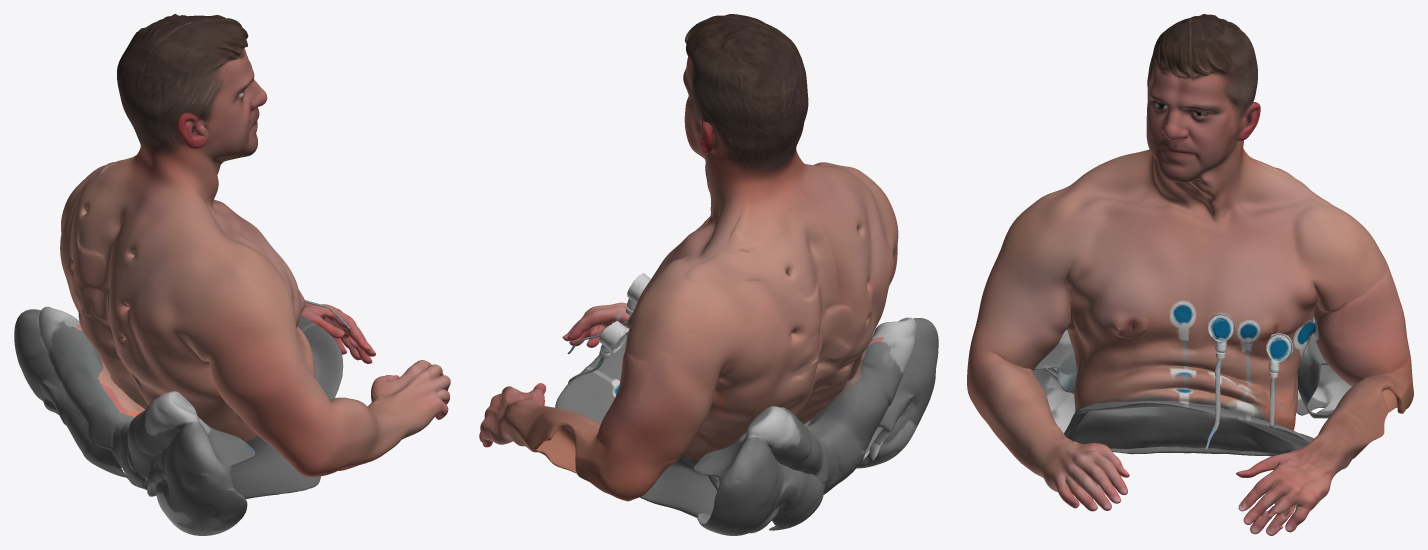
Rendered from ecg.glb.
3 views of the same model, side by side, from view 1: azimuth 30°, elevation 25°; view 2: azimuth 150°, elevation 25°; view 3: azimuth 270°, elevation 25° (orthographic). The views are drawn at different scales.
Visible parts, largest first — view 1: tripo_node_bfdcae19-e8ba-44e9-8135-4d251d17ed21; view 2: tripo_node_bfdcae19-e8ba-44e9-8135-4d251d17ed21; view 3: tripo_node_bfdcae19-e8ba-44e9-8135-4d251d17ed21.
Part boxes in pixels (x1,y1,x2,y2): tripo_node_bfdcae19-e8ba-44e9-8135-4d251d17ed21: [14, 14, 450, 535]; tripo_node_bfdcae19-e8ba-44e9-8135-4d251d17ed21: [479, 14, 938, 535]; tripo_node_bfdcae19-e8ba-44e9-8135-4d251d17ed21: [967, 14, 1413, 535].
Size of the model in its own units: 0.7205 by 1 by 0.9064.
1 material, 1 textured.
